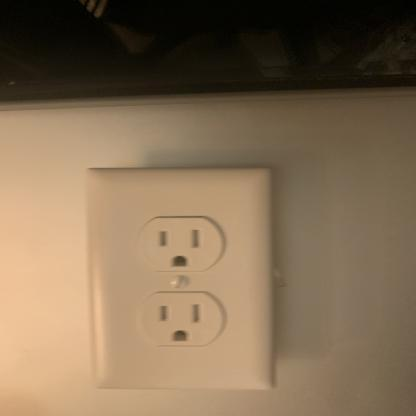OUTLET: (90, 170, 270, 390)
